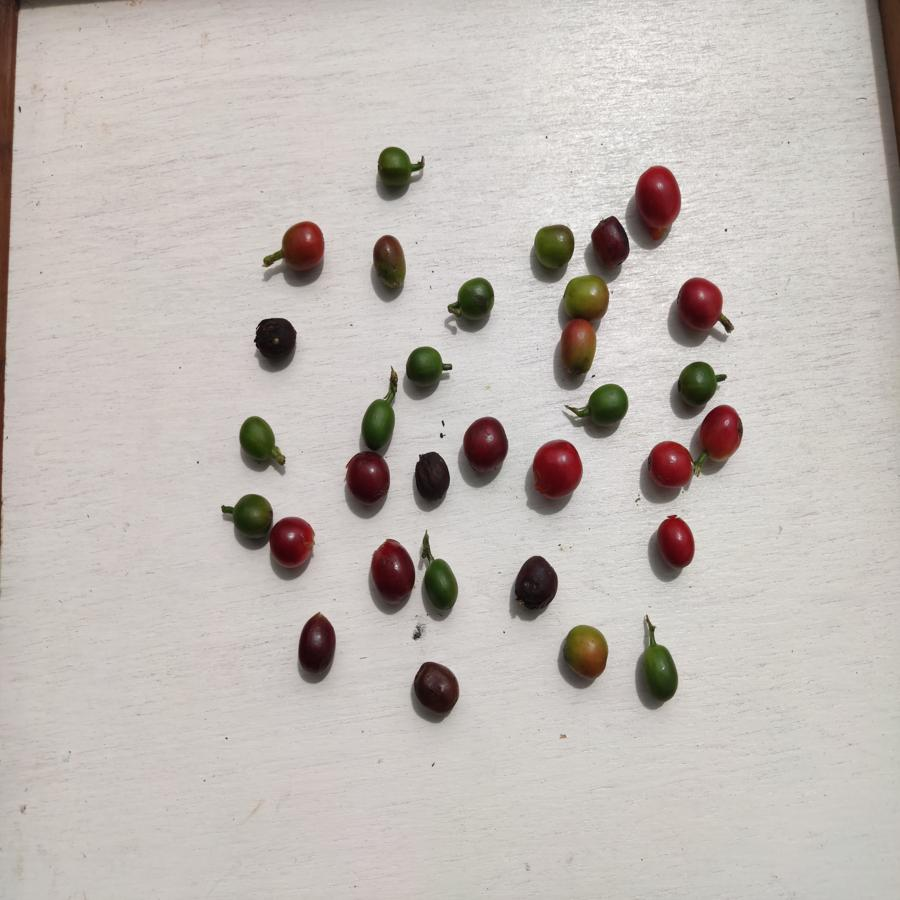Inmaduro: (641, 642, 683, 702), (236, 414, 279, 471), (419, 554, 460, 611), (672, 359, 719, 407), (532, 224, 578, 271), (359, 394, 396, 451), (234, 494, 275, 543), (589, 381, 631, 428), (456, 274, 496, 321), (376, 144, 414, 192), (403, 345, 445, 388)
Maduro: (637, 161, 684, 235), (532, 437, 587, 499), (673, 274, 724, 337), (699, 404, 746, 461), (279, 219, 326, 275), (655, 512, 698, 571), (271, 514, 316, 570), (647, 438, 694, 490)
Pinton: (560, 622, 611, 680), (558, 317, 599, 377), (367, 234, 409, 292), (561, 272, 611, 318)
Sobremaduro: (367, 536, 416, 606), (459, 414, 511, 476), (411, 656, 461, 716), (342, 451, 396, 506), (514, 552, 561, 614), (586, 213, 631, 271), (295, 612, 337, 674), (250, 314, 300, 365), (411, 451, 453, 501)
